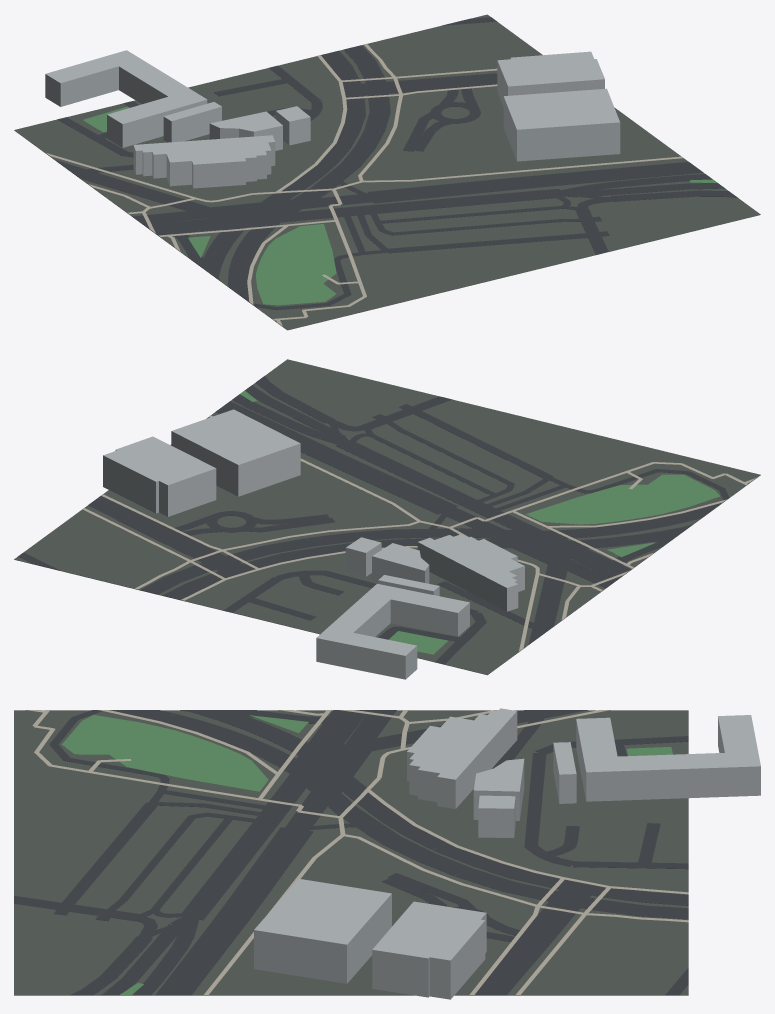
File: tile_007_007.glb
3 renders of one model, top to bottom at view 1: azimuth 30°, elevation 25°; view 2: azimuth 150°, elevation 25°; view 3: azimuth 270°, elevation 25°, orthographic. The views are drawn at different scales.
Visible parts, largest first — view 1: tile_007_007_ground, tile_007_007_roads, tile_007_007_buildings_neutral, tile_007_007_open_spaces, tile_007_007_paths; view 2: tile_007_007_ground, tile_007_007_roads, tile_007_007_buildings_neutral, tile_007_007_open_spaces, tile_007_007_paths; view 3: tile_007_007_ground, tile_007_007_roads, tile_007_007_buildings_neutral, tile_007_007_open_spaces, tile_007_007_paths.
Boxes of the visible parts, x1,y1,x2,y2 form: tile_007_007_ground: (14, 14, 760, 330); tile_007_007_roads: (55, 17, 737, 310); tile_007_007_buildings_neutral: (45, 50, 620, 188); tile_007_007_open_spaces: (82, 106, 717, 305); tile_007_007_paths: (45, 43, 683, 326); tile_007_007_ground: (14, 359, 760, 675); tile_007_007_roads: (18, 376, 729, 664); tile_007_007_buildings_neutral: (103, 409, 524, 679); tile_007_007_open_spaces: (240, 390, 719, 654); tile_007_007_paths: (82, 415, 756, 651); tile_007_007_ground: (14, 710, 688, 995); tile_007_007_roads: (14, 710, 688, 995); tile_007_007_buildings_neutral: (254, 708, 760, 999); tile_007_007_open_spaces: (62, 715, 672, 995); tile_007_007_paths: (26, 710, 688, 994).
Size of the model in its own units: 254 by 16.16 by 277.
